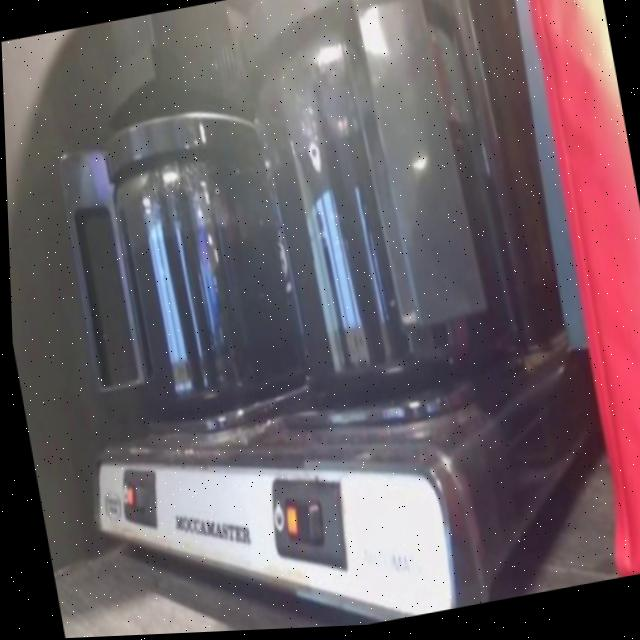coffee: (254, 60, 520, 399), (110, 154, 303, 410)
